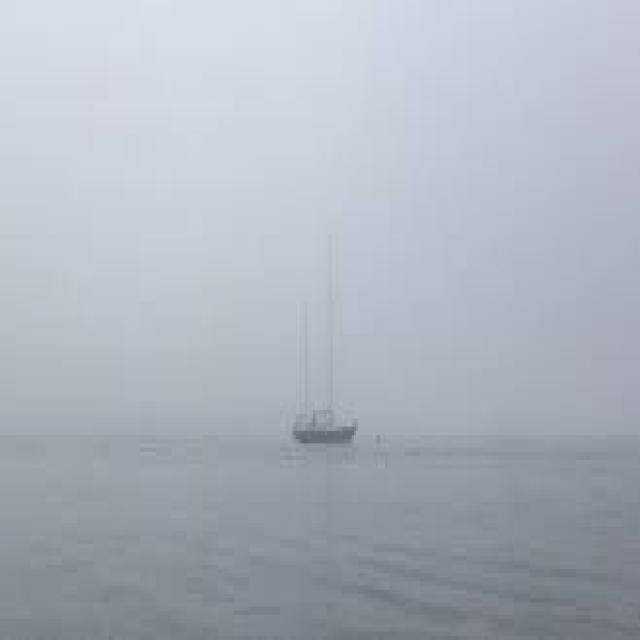fishing boat: (289, 371, 358, 445)
